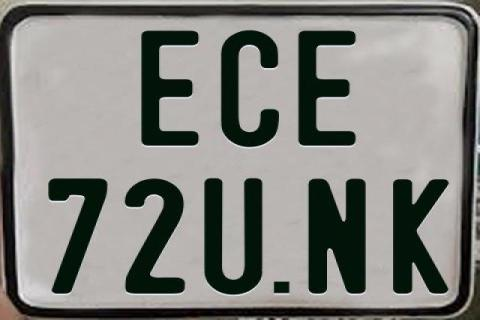0: (46, 178, 108, 294), (123, 177, 185, 293)
C: (220, 30, 280, 152)
E: (296, 29, 360, 149), (141, 29, 199, 145)
K: (390, 178, 452, 292)
N: (306, 177, 365, 297)
U: (202, 177, 260, 293)
